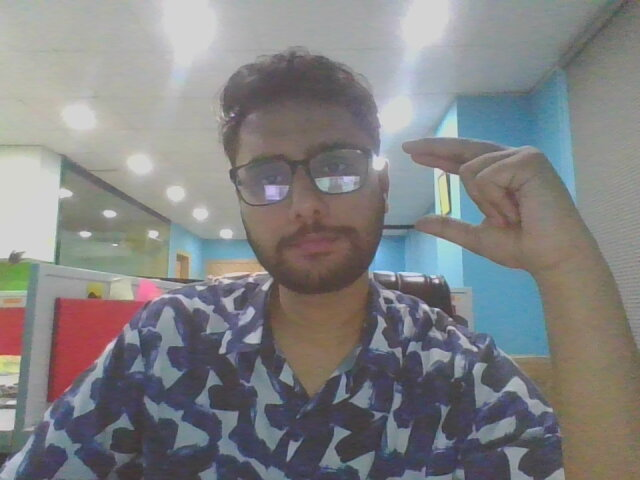no: (397, 122, 624, 297)
